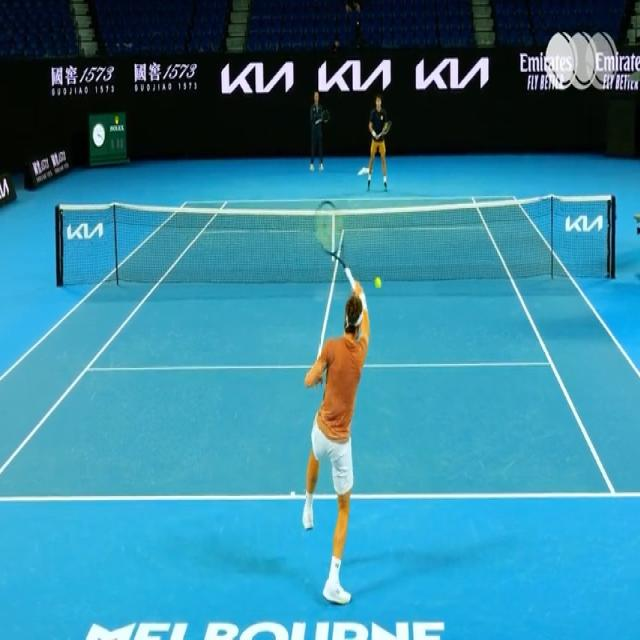forehand-stroke: (298, 197, 377, 604)
